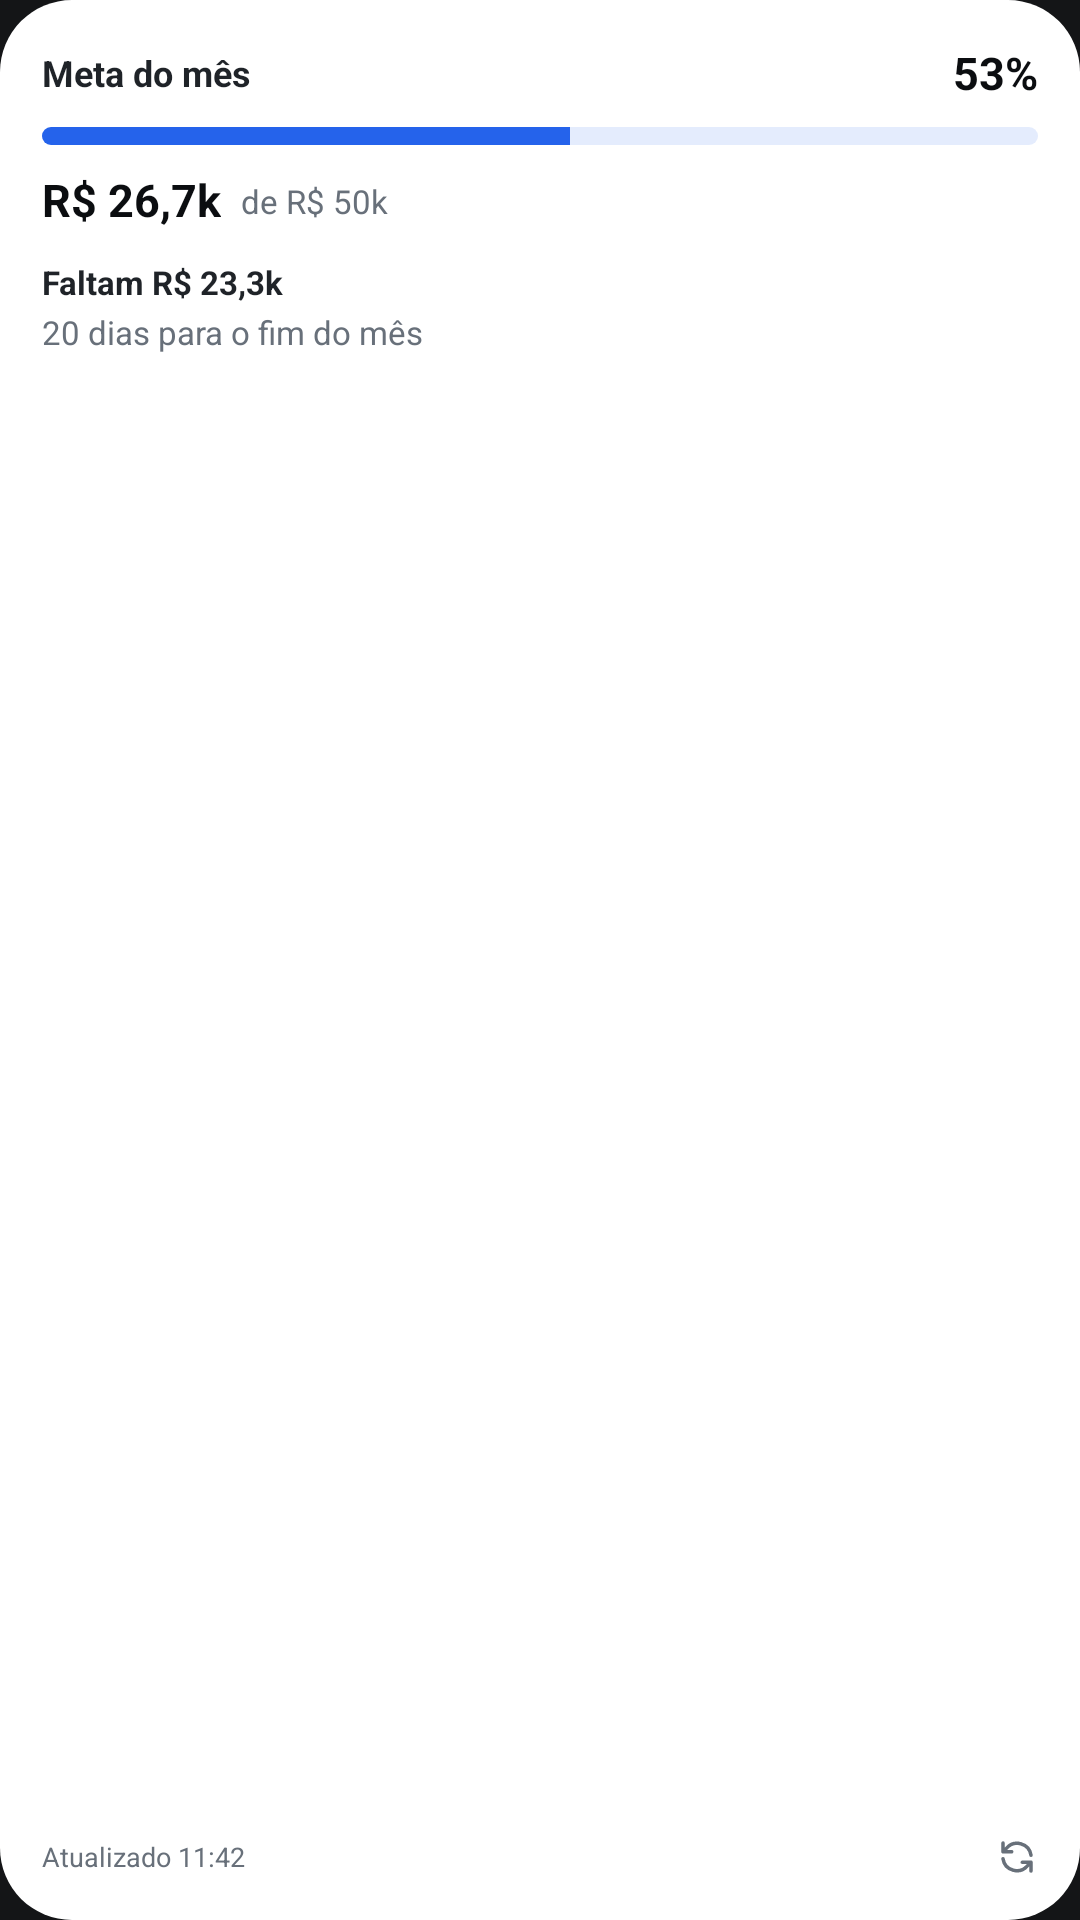

Where to tap for icons on this 1080 x 1920 app screen, as point (x, y):
atualizar: point (1017, 1857)
